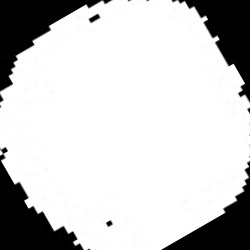spot: (3, 3, 247, 247)
